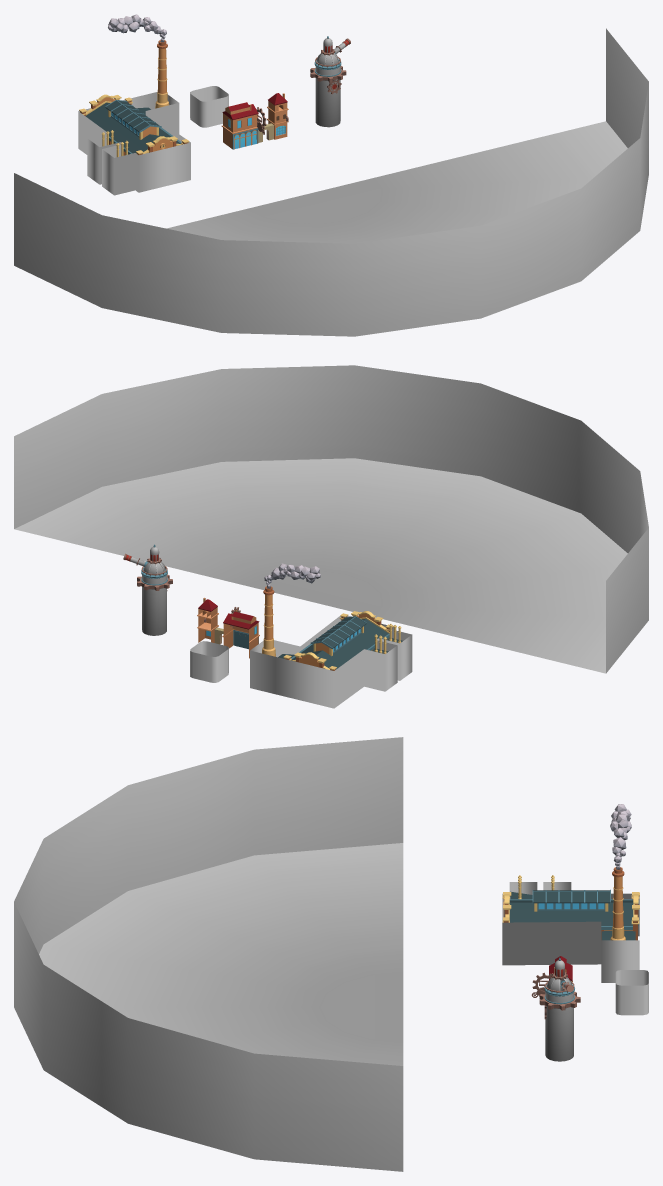
Rendered from assets_t4_a4.fbx.
3 views of the same model, one above another, from view 1: azimuth 30°, elevation 25°; view 2: azimuth 150°, elevation 25°; view 3: azimuth 270°, elevation 25° (orthographic). The views are drawn at different scales.
Visible parts, largest first — view 1: ground_t4_era4, godray_t4_era4.001, Asset1, Asset2, Asset3, godray_t4_era4, Asset5; view 2: ground_t4_era4, godray_t4_era4.001, Asset1, Asset3, Asset2, godray_t4_era4, Asset5; view 3: ground_t4_era4, godray_t4_era4.001, Asset1, Asset3, godray_t4_era4, Asset5.
Boxes of the visible parts, left/top/right/bottom form: ground_t4_era4: left=14, top=28, right=648, bottom=336; godray_t4_era4.001: left=78, top=92, right=190, bottom=195; Asset1: left=79, top=40, right=189, bottom=157; Asset2: left=221, top=93, right=288, bottom=149; Asset3: left=310, top=36, right=350, bottom=127; godray_t4_era4: left=190, top=86, right=228, bottom=127; Asset5: left=108, top=14, right=166, bottom=41; ground_t4_era4: left=14, top=365, right=648, bottom=673; godray_t4_era4.001: left=250, top=615, right=412, bottom=708; Asset1: left=262, top=586, right=402, bottom=670; Asset3: left=123, top=544, right=172, bottom=635; Asset2: left=197, top=597, right=259, bottom=658; godray_t4_era4: left=190, top=641, right=228, bottom=682; Asset5: left=264, top=563, right=320, bottom=587; ground_t4_era4: left=14, top=737, right=403, bottom=1171; godray_t4_era4.001: left=502, top=882, right=639, bottom=982; Asset1: left=502, top=867, right=639, bottom=940; Asset3: left=539, top=957, right=580, bottom=1061; godray_t4_era4: left=615, top=970, right=648, bottom=1015; Asset5: left=610, top=804, right=631, bottom=868.
Size of the model in its own units: 162 by 33.7 by 132.
